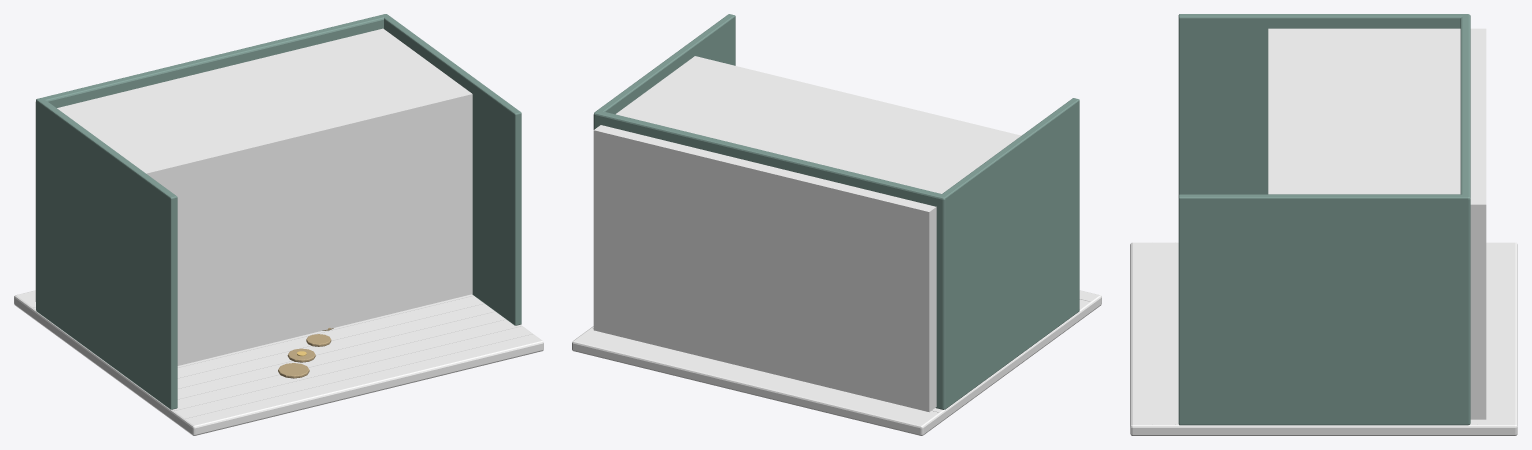
Rendered from dream-tide-paper-harbor.glb.
3 renders of one model, left to right at view 1: azimuth 30°, elevation 25°; view 2: azimuth 150°, elevation 25°; view 3: azimuth 270°, elevation 25°, orthographic. The views are drawn at different scales.
Visible parts, largest first — view 1: Thin atmosphere for visible light shafts, Left return wall, Aged oak floor, Right return wall, Back wall; view 2: Thin atmosphere for visible light shafts, Left return wall, Aged oak floor, Back wall, Right return wall; view 3: Right return wall, Thin atmosphere for visible light shafts, Left return wall, Aged oak floor, Back wall.
Boxes of the visible parts, box(x1,y1,x2,y2) form: Thin atmosphere for visible light shafts: box(35, 28, 472, 365); Left return wall: box(36, 98, 177, 409); Aged oak floor: box(14, 290, 543, 435); Right return wall: box(384, 14, 521, 325); Back wall: box(36, 14, 388, 311); Thin atmosphere for visible light shafts: box(593, 56, 1020, 412); Left return wall: box(940, 98, 1079, 409); Aged oak floor: box(572, 290, 1101, 435); Back wall: box(593, 111, 948, 409); Right return wall: box(594, 14, 735, 114); Right return wall: box(1178, 194, 1468, 425); Thin atmosphere for visible light shafts: box(1268, 28, 1486, 419); Left return wall: box(1178, 14, 1468, 194); Aged oak floor: box(1130, 242, 1517, 435); Back wall: box(1460, 14, 1470, 424).
Bounding box in the file's own units: 18 × 10.9 × 16.
